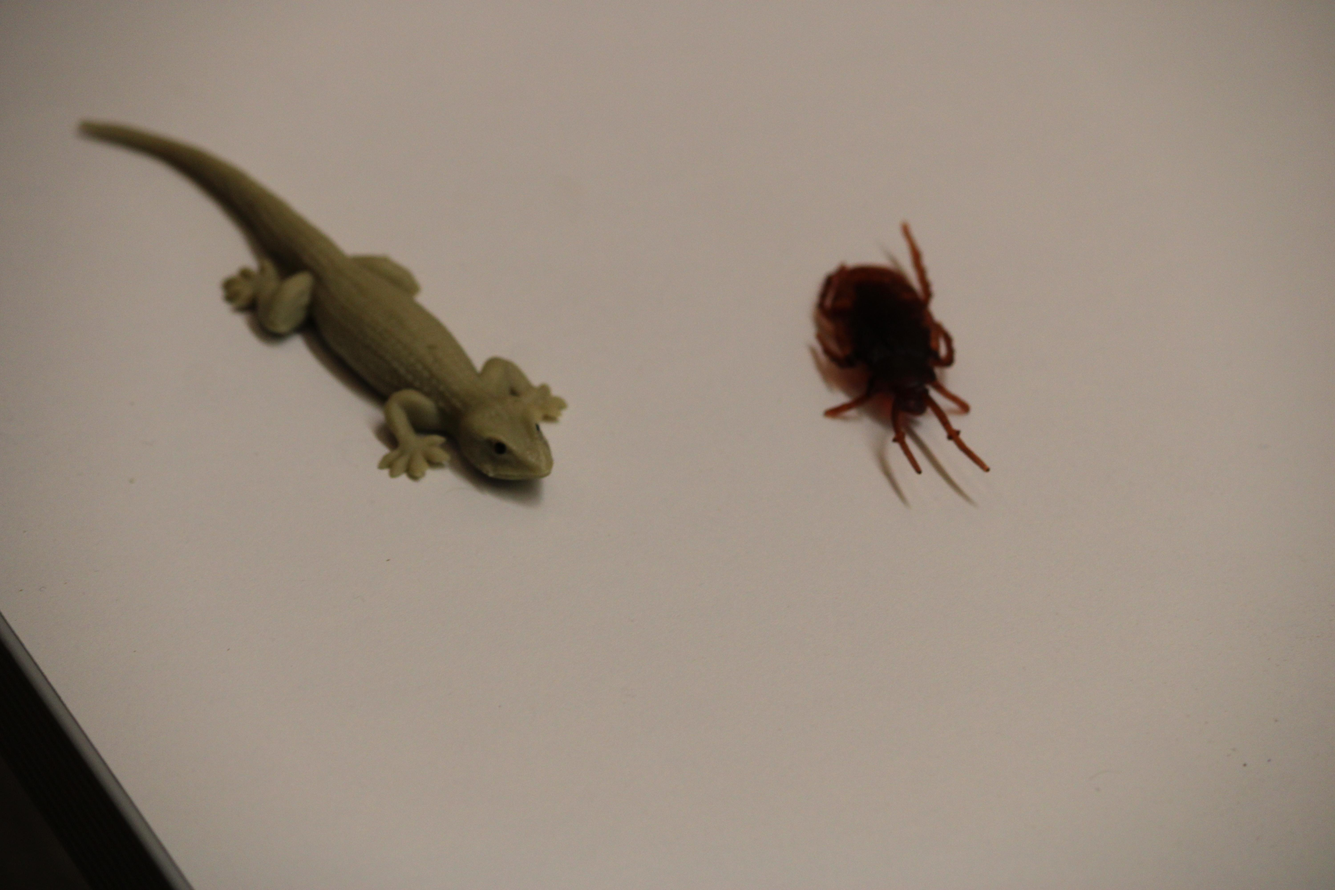cockroach: (773, 216, 1007, 500)
lizard: (69, 101, 578, 500)
